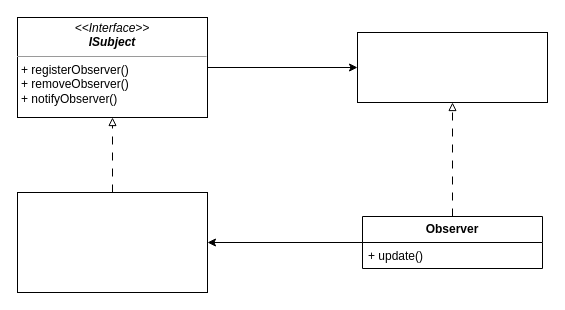
Image size: 565x310. Some labels were removed from this diagram. Each missing label, with the centre of its shape:
<<Interface>> IObserver + update(): (452,67)
Subject + registerObserver() + removeObserver() + notifyObserver(): (112,242)
